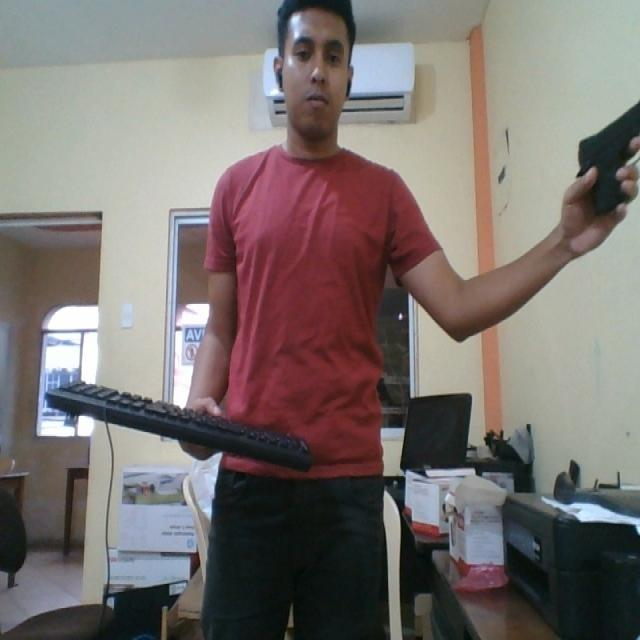weapon: (571, 96, 640, 224)
